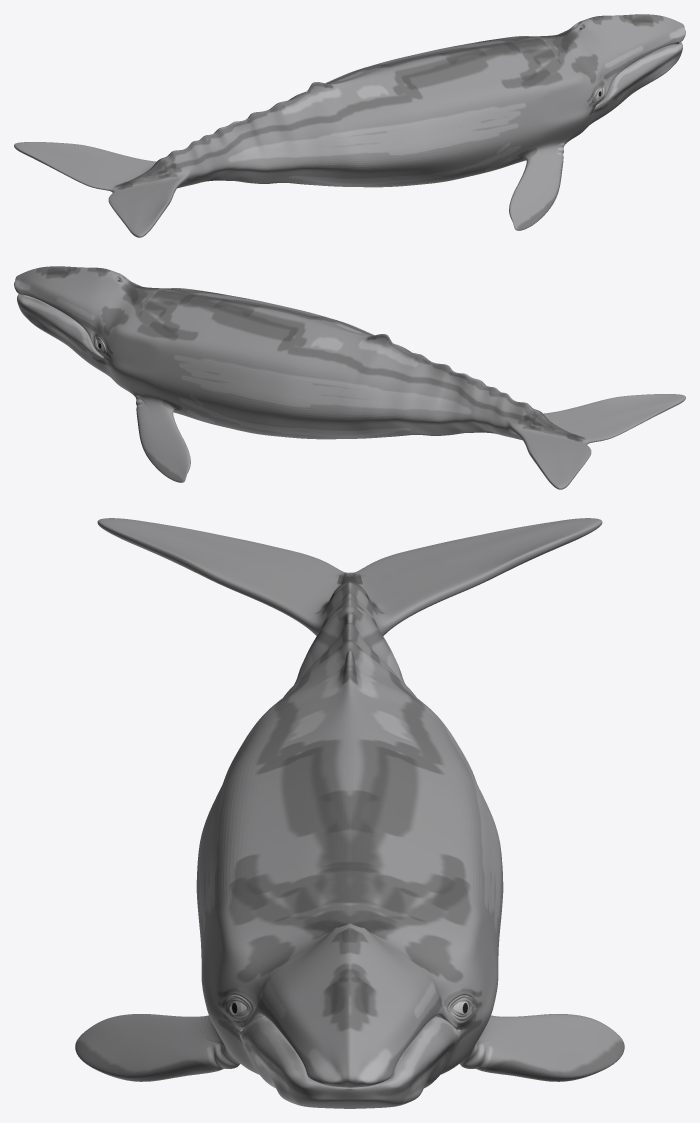
Rendered from 5.BallenaGris.glb.
3 renders of one model, top to bottom at view 1: azimuth 30°, elevation 25°; view 2: azimuth 150°, elevation 25°; view 3: azimuth 270°, elevation 25°, orthographic. The views are drawn at different scales.
Visible parts, largest first — view 1: Cube; view 2: Cube; view 3: Cube.
Boxes of the visible parts, x1,y1,x2,y2 form: Cube: (14,14,685,237); Cube: (14,266,685,489); Cube: (75,518,624,1108).
Size of the model in its own units: 11.57 by 2.41 by 4.52.
Materials: 2 (2 with a texture image).
